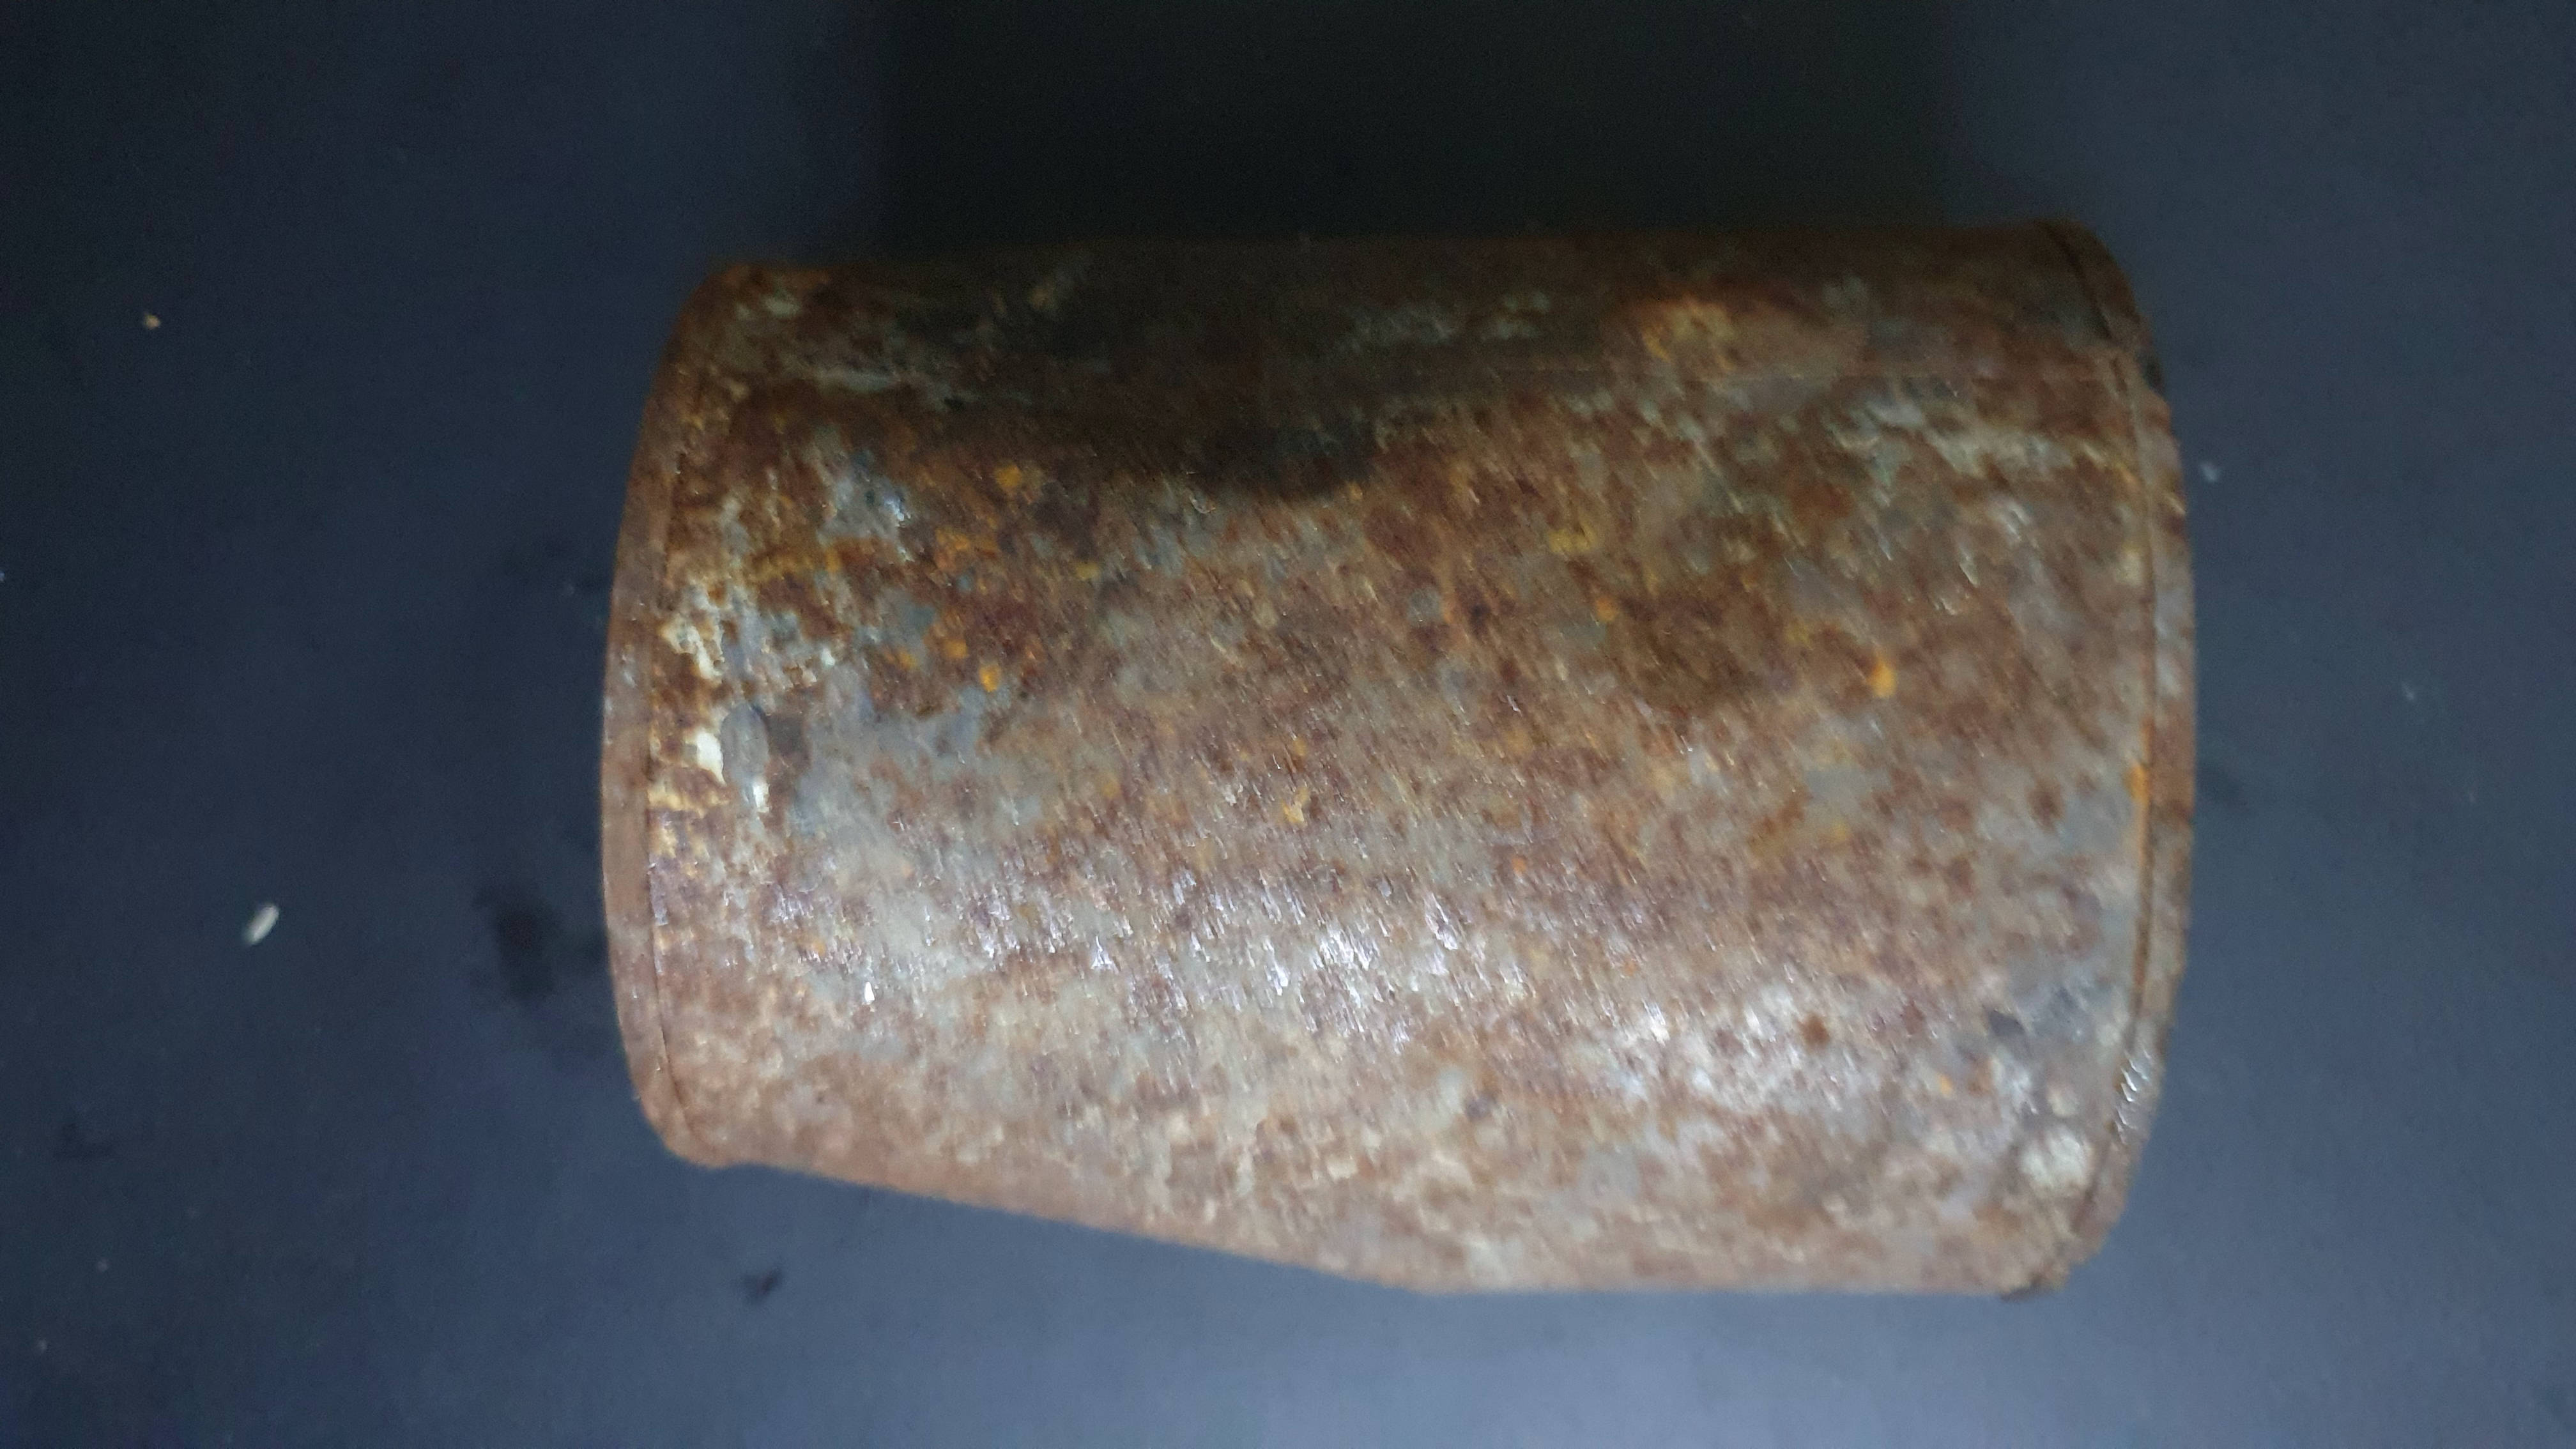metal: (506, 166, 2282, 1345)
